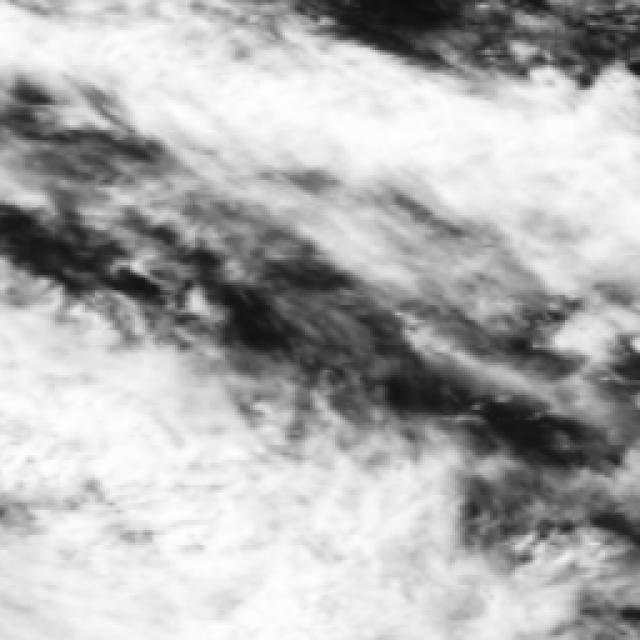CB: (42, 407, 222, 640), (181, 500, 434, 640), (445, 118, 640, 200), (275, 82, 449, 157)
